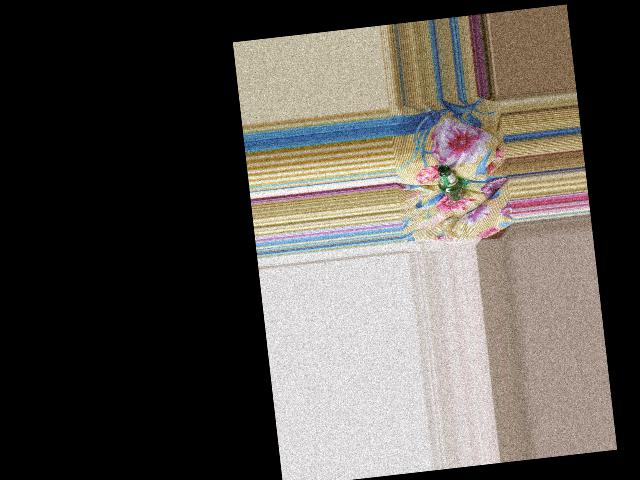beer: (436, 163, 464, 202)
